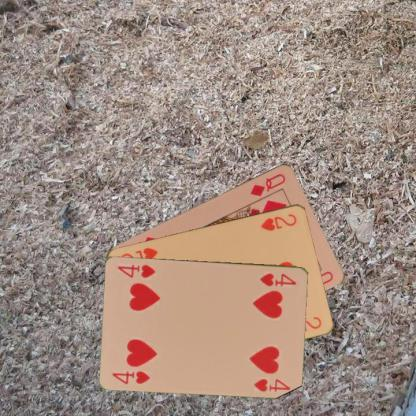2h: (258, 211, 298, 232)
4h: (110, 367, 152, 386), (258, 270, 298, 288)
Qd: (248, 170, 287, 198)
